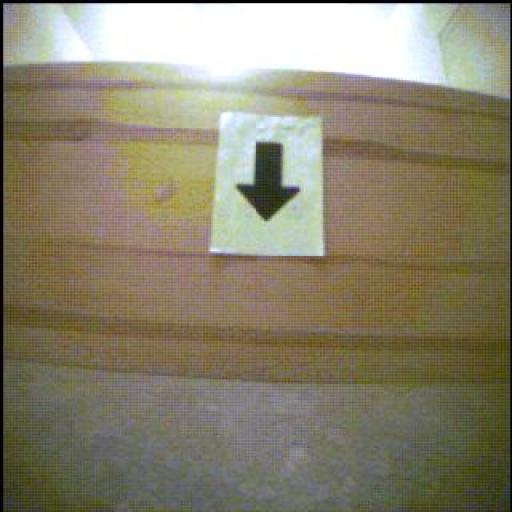Arrow: (238, 143, 300, 222)
